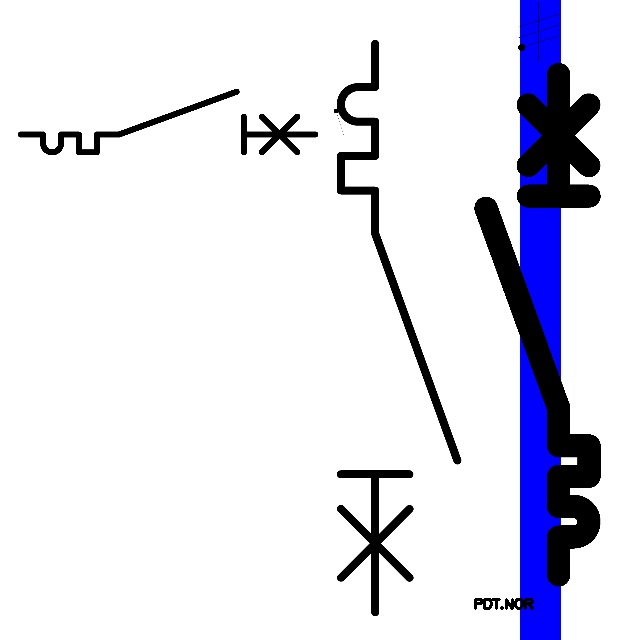interruptor_termomagnetico: (326, 29, 472, 627), (473, 61, 602, 587), (13, 84, 323, 160)
